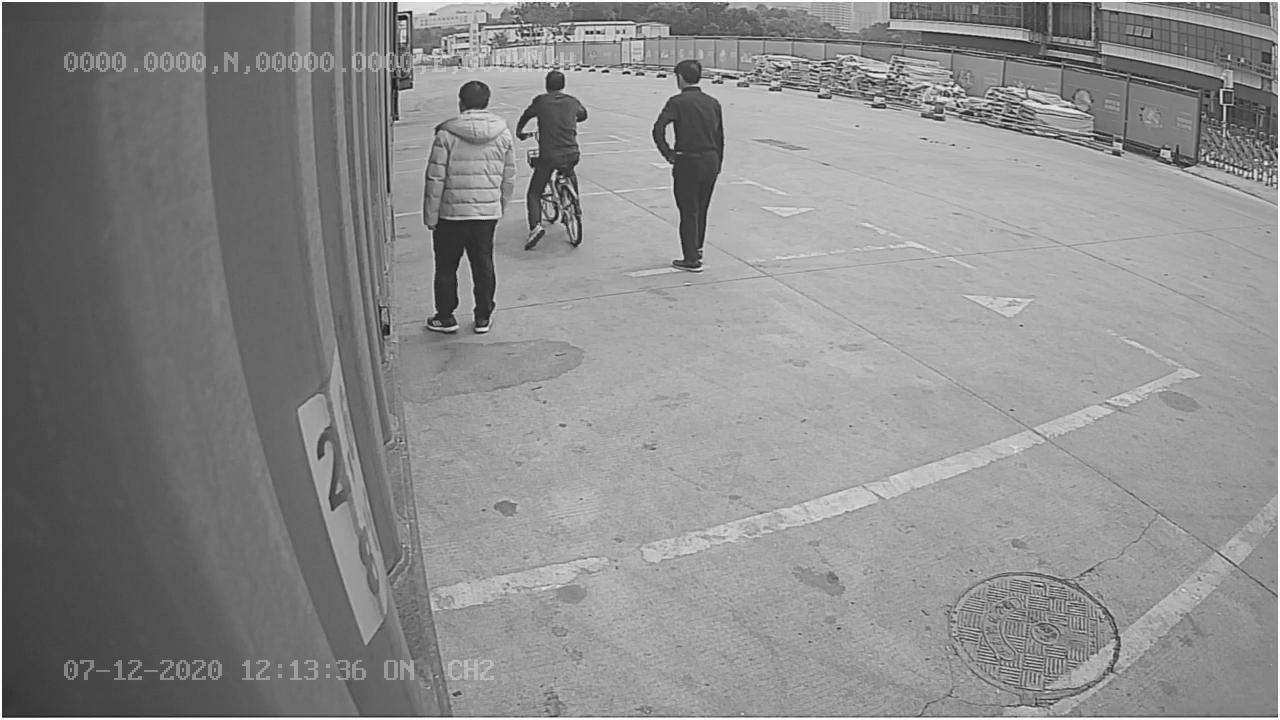person: (422, 77, 515, 338), (649, 50, 729, 275)
